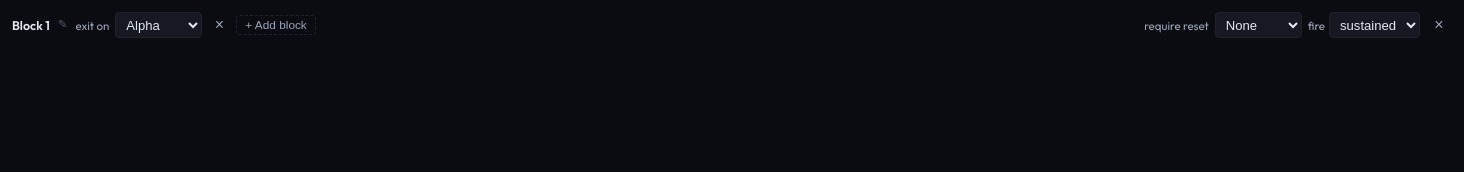
Test case: BlockHeader — exit multi-target picker › "+ Add block" reveals a new empty dropdown row
The width and height of the screenshot is (1464, 172).
Click the button with test id "add-target-0": (276, 25) [236, 15, 316, 35]
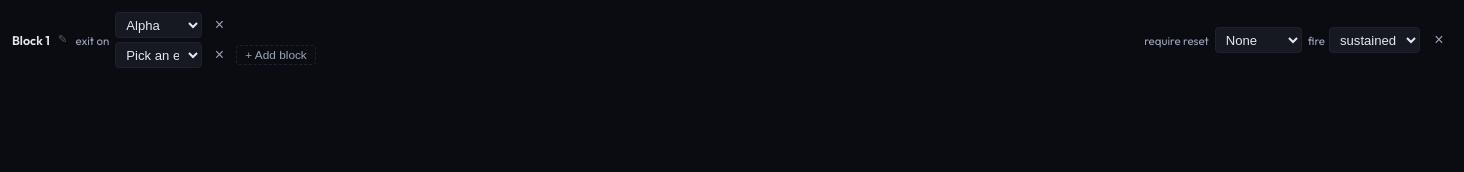
Now the dropdown with test id "target-entry-select-0-1" is shown, box [115, 42, 202, 68]
